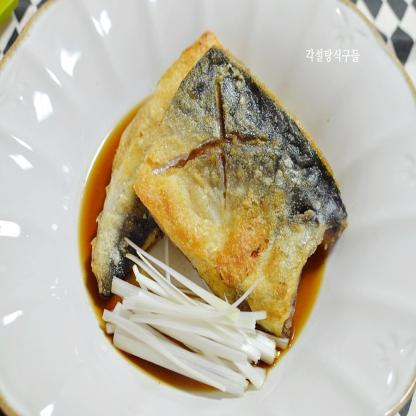Peixe: (87, 40, 356, 317)
